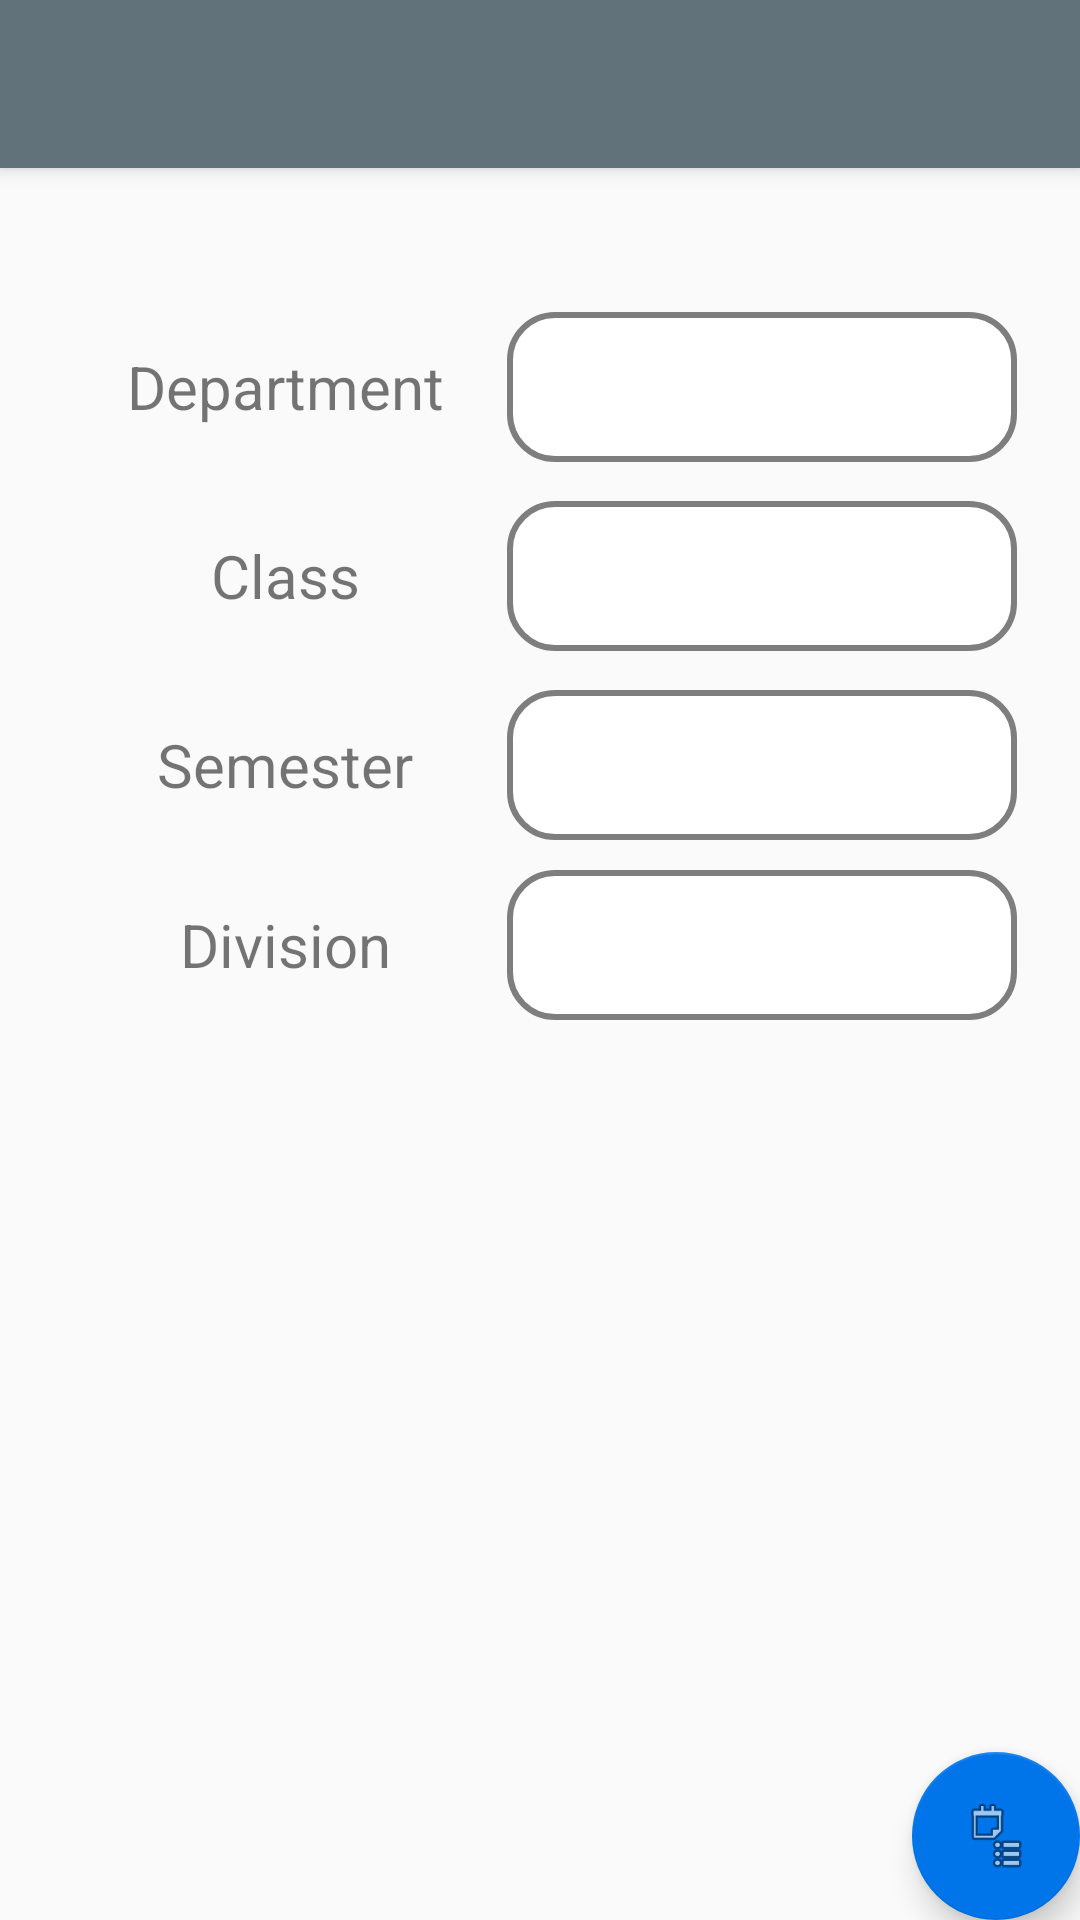

Screen size 1080 x 1920. Icon name, then its box in pixels as bbox(x1, y1, x2, y2):
agenda: bbox(912, 1752, 1080, 1920)
